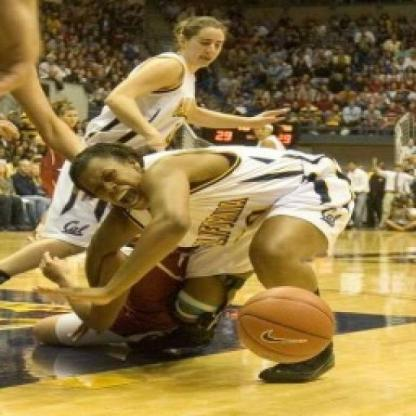basketball: (236, 281, 339, 367)
